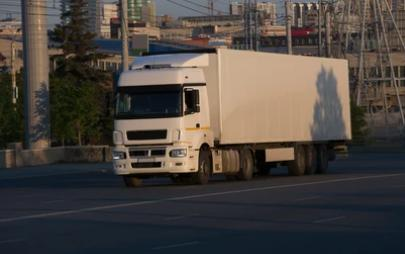vehicle: (104, 47, 352, 187)
